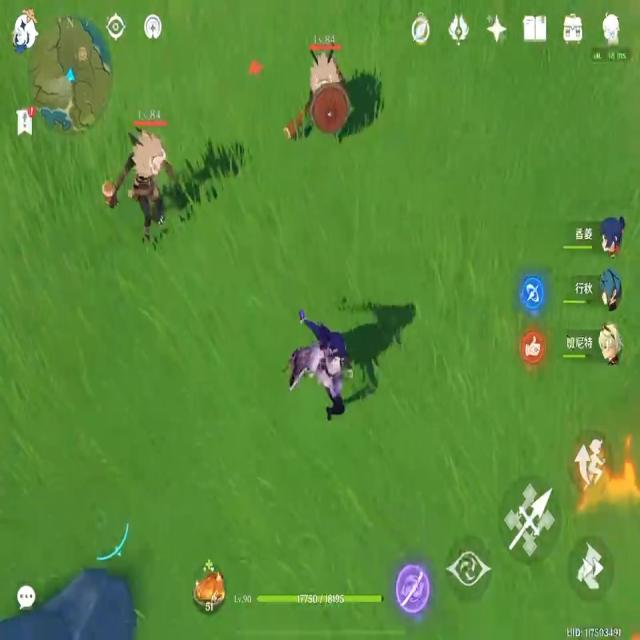genshin-hilichurls: (121, 115, 171, 245), (299, 36, 354, 140)
